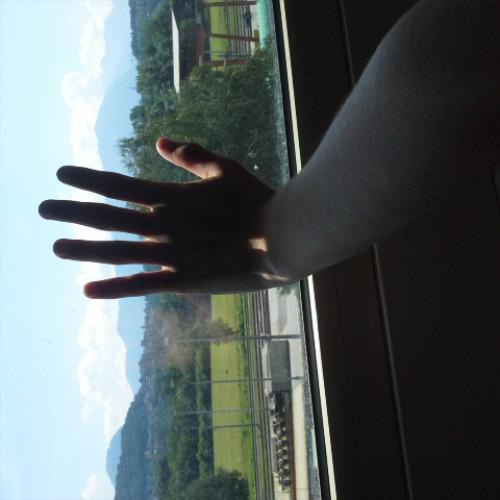paper: (30, 132, 295, 306)
